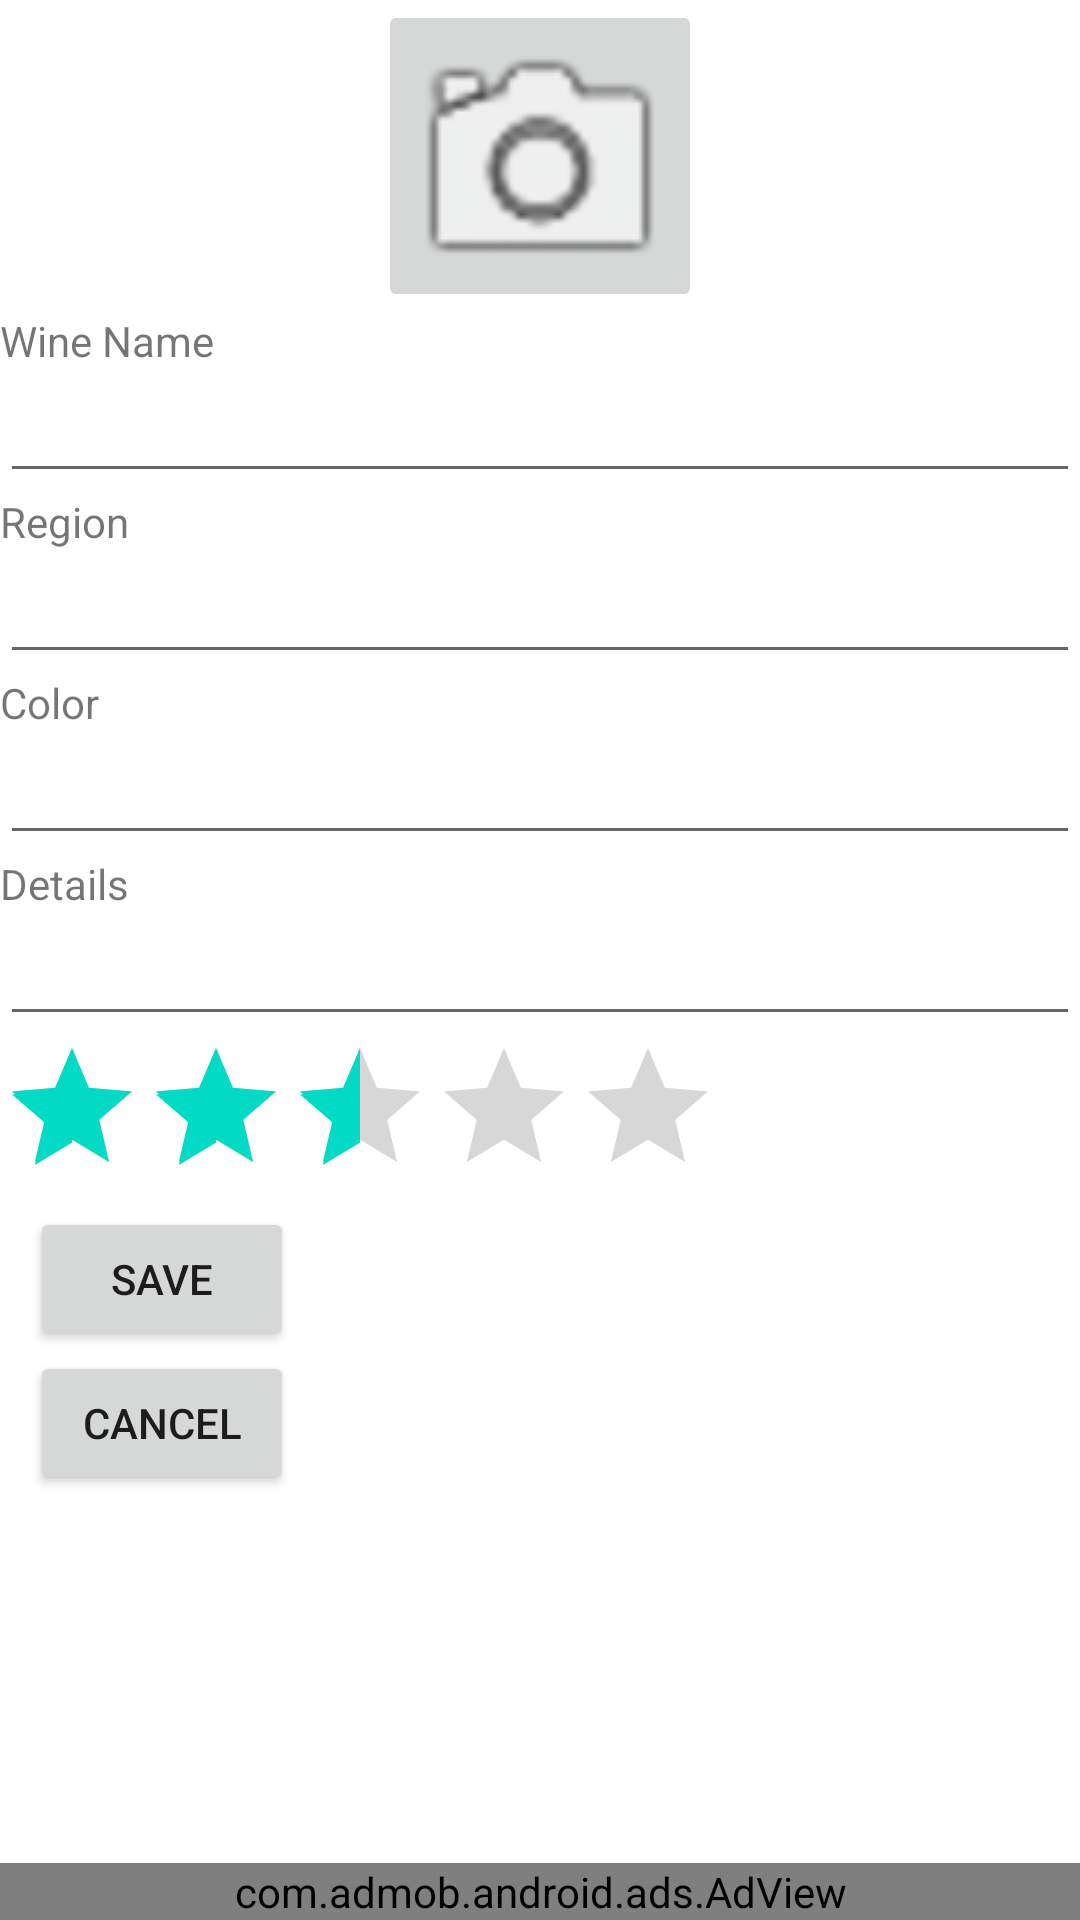

Screen size 1080w x 1920h. Icon name, then its box in pixels as (x1, y1, x2, y2):
camera: (390, 18, 690, 294)
